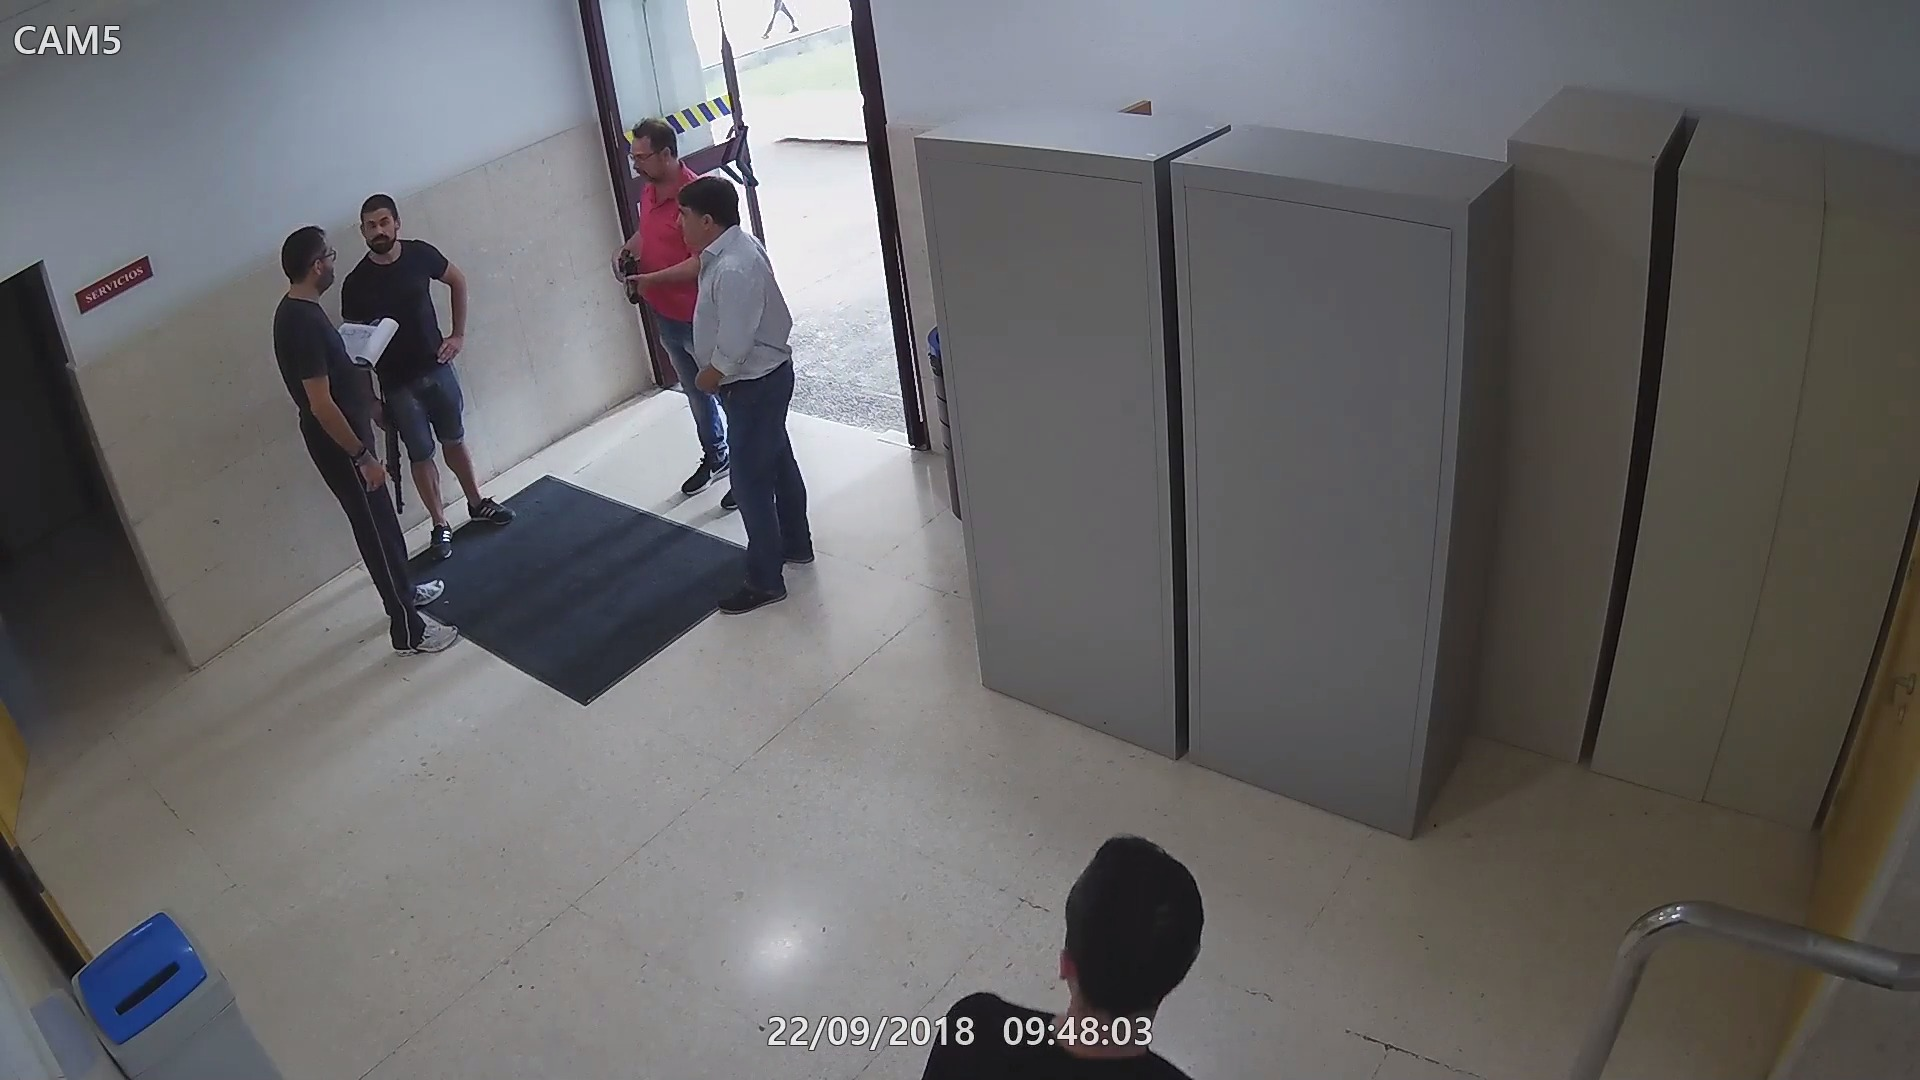Short_rifle: (376, 372, 409, 516), (611, 245, 646, 305)
